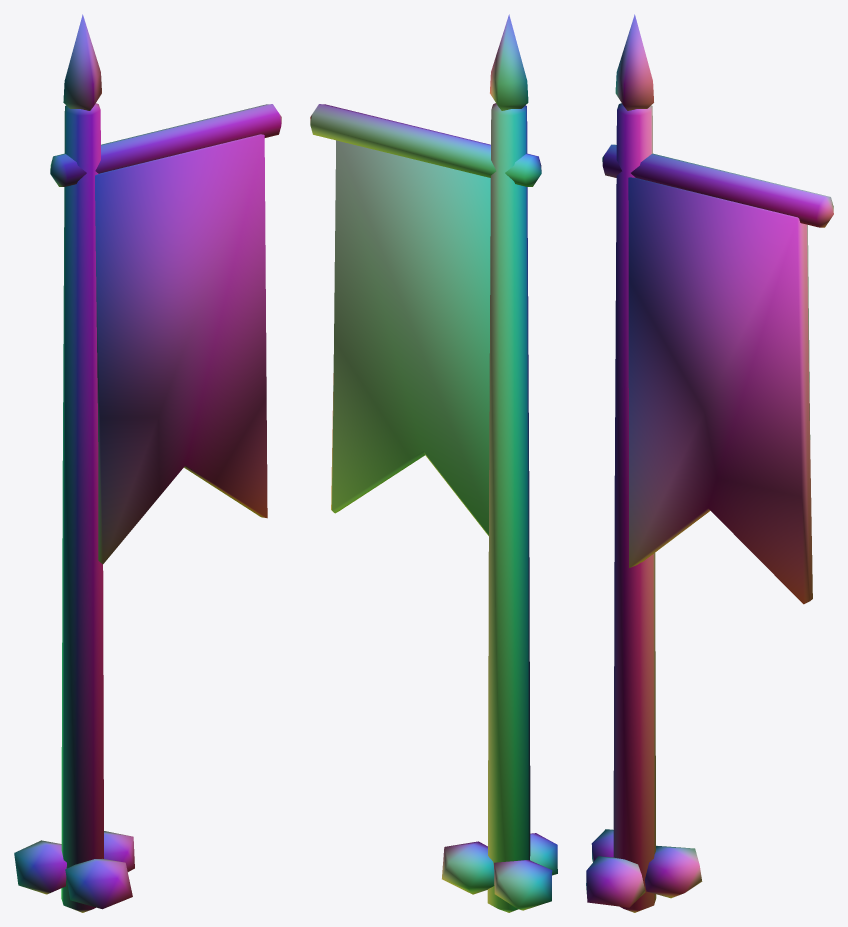
Rendered from SM_Prop_March_KnellwatchBanner.fbx.
The picture shows the model from 3 angles, left to right: view 1: azimuth 30°, elevation 25°; view 2: azimuth 150°, elevation 25°; view 3: azimuth 330°, elevation 25°; orthographic projection.
Parts seen in each view (by area): view 1: SM_Prop_March_KnellwatchBanner; view 2: SM_Prop_March_KnellwatchBanner; view 3: SM_Prop_March_KnellwatchBanner.
Part boxes in pixels (x1,y1,x2,y2): SM_Prop_March_KnellwatchBanner: (14, 14, 281, 912); SM_Prop_March_KnellwatchBanner: (310, 14, 557, 912); SM_Prop_March_KnellwatchBanner: (586, 14, 833, 912).
Bounding box in the file's own units: 0.8042 × 2.73 × 0.329.
